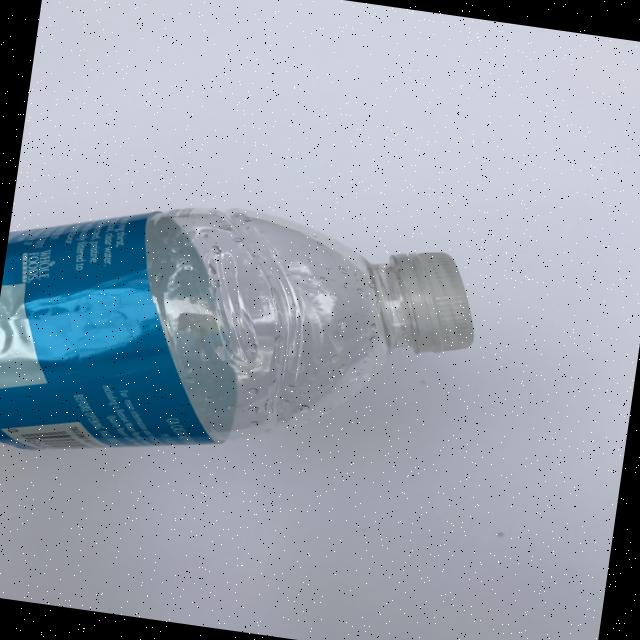plastic: (0, 175, 487, 510)
